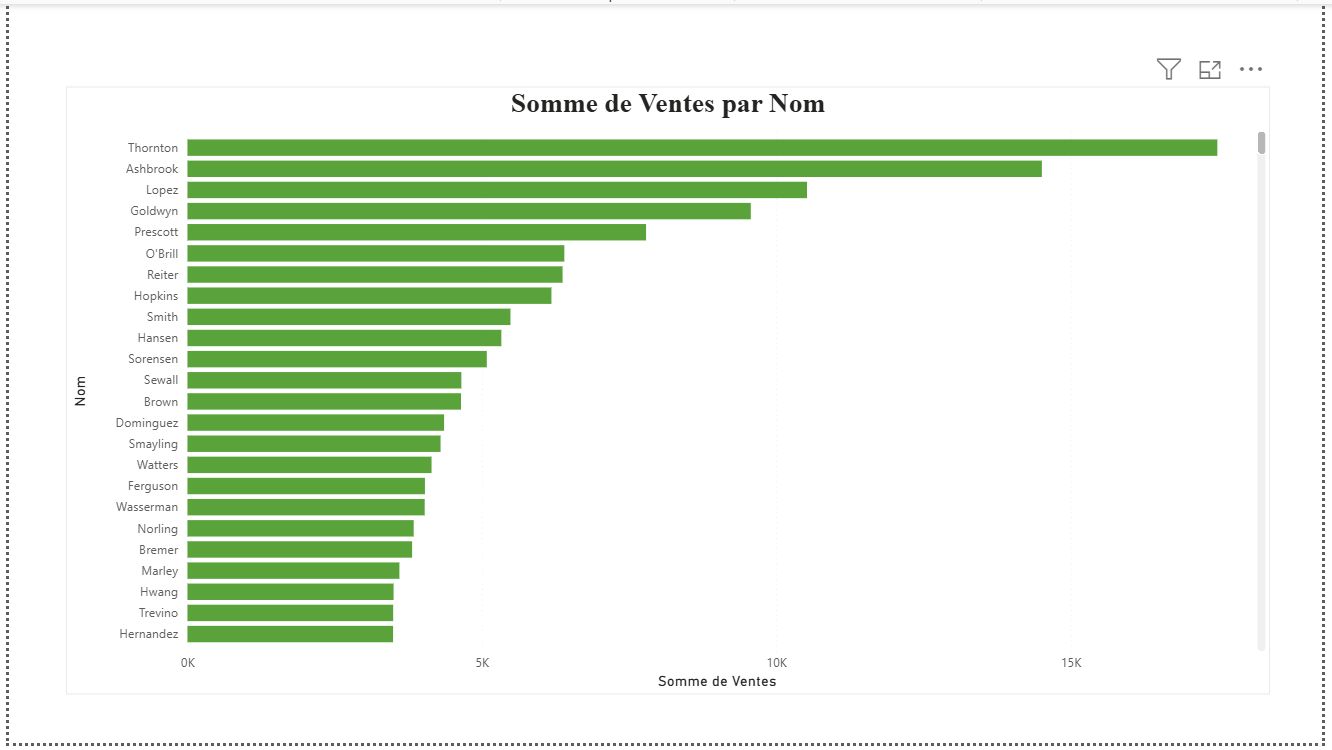

The page's visual inventory and layout, read from the dashboard file:
{"tool":"powerbi","page":{"name":"Page 2","canvas":[1280,720],"ordinal":1},"visuals":[{"type":"clusteredBarChart","fields":{"Category":["Client.Nom"],"Y":["Sum(Commandes.Ventes)"]},"box":[55.5,80.4,1173.6,591.9],"z":0}]}

Visuals, with their boxes on the page's 1280x720 design canvas (x1, y1, x2, y2). These are canvas units, not pixel positions in the 1332x750 screenshot, which may show the page scaled, cropped or inside an application window:
clusteredBarChart - Client.Nom x Sum(Commandes.Ventes): bbox(56, 80, 1229, 672)
